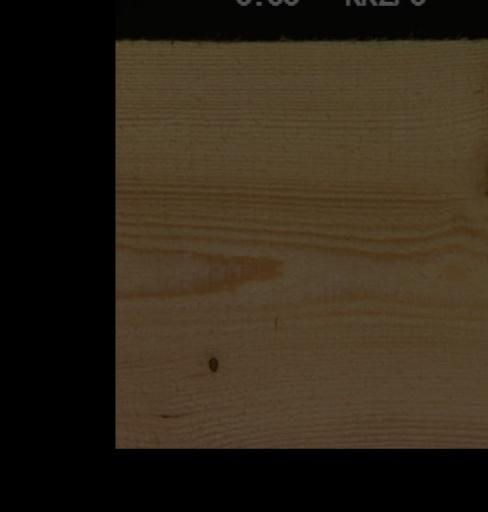dry_knot: (207, 353, 218, 372)
